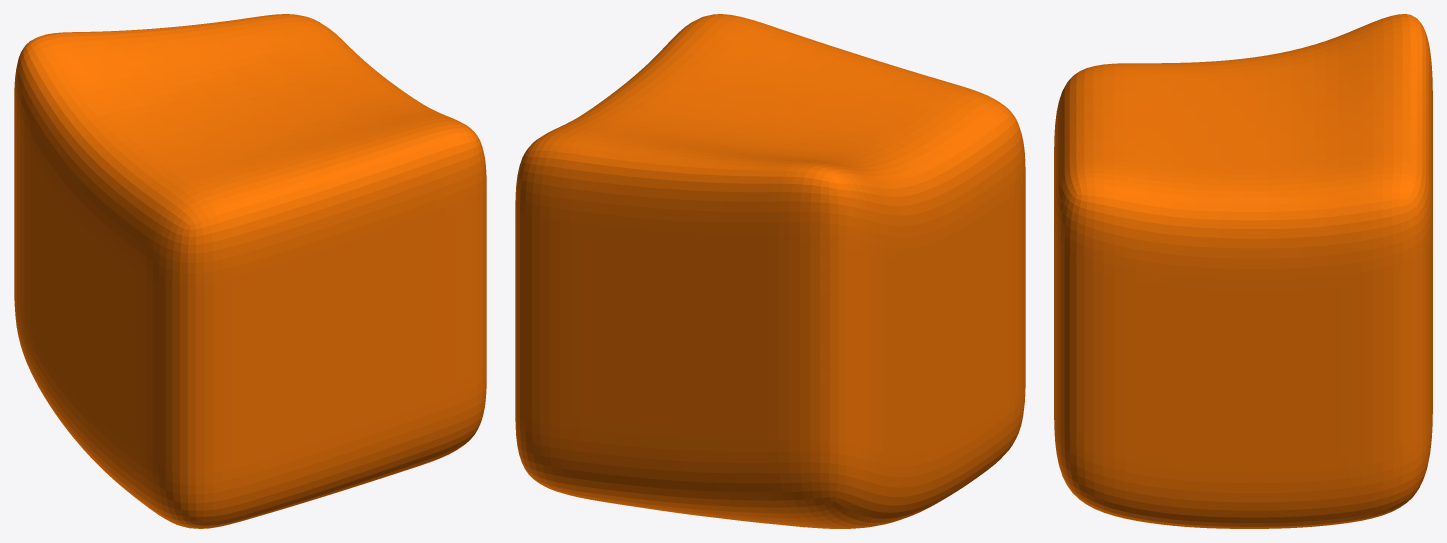
3 views of the same model, side by side, from view 1: azimuth 30°, elevation 25°; view 2: azimuth 150°, elevation 25°; view 3: azimuth 270°, elevation 25° (orthographic). The views are drawn at different scales.
Parts seen in each view (by area): view 1: smooth_1_base.038; view 2: smooth_1_base.038; view 3: smooth_1_base.038.
Boxes of the visible parts, <box> form: smooth_1_base.038: <box>14,14,486,528</box>; smooth_1_base.038: <box>515,14,1025,528</box>; smooth_1_base.038: <box>1054,14,1432,528</box>.
Size of the model in its own units: 60 by 67.76 by 60.
